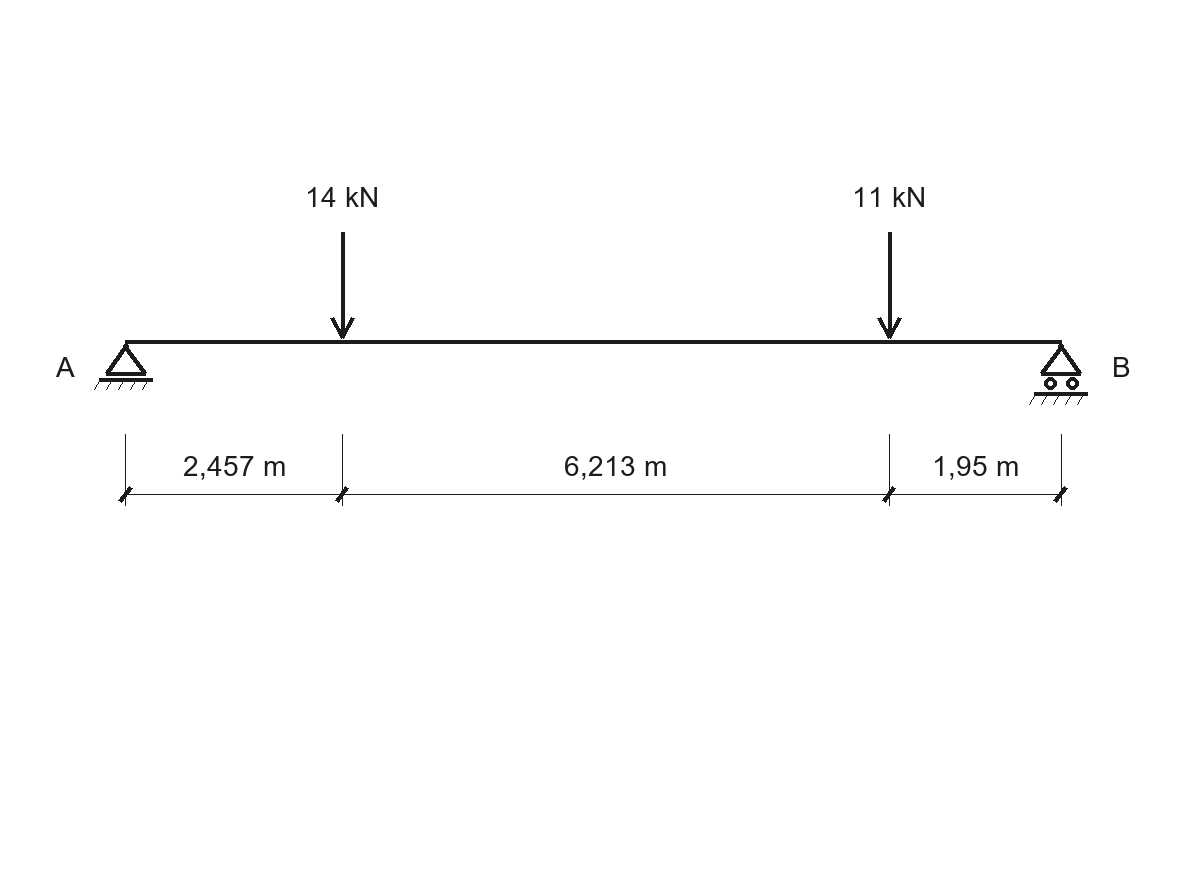pin_support: (94, 343, 153, 390)
point_load: (330, 232, 355, 339), (877, 232, 902, 339)
roller_support: (1029, 343, 1088, 405)
